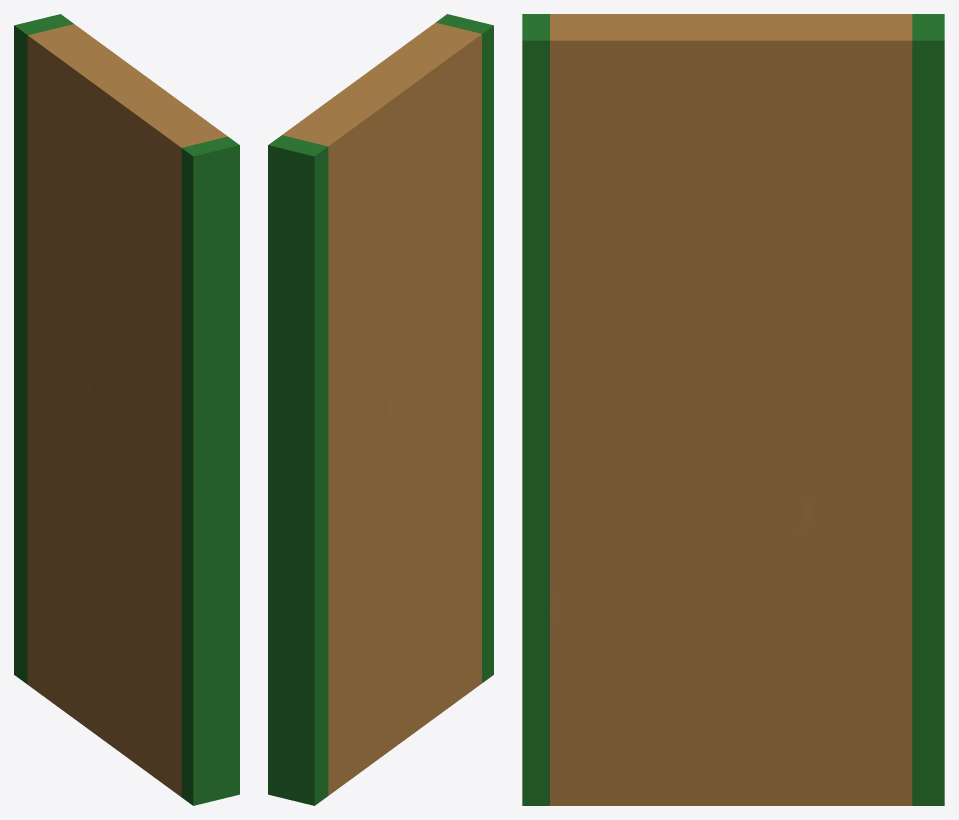
File: tatami1.fbx
The picture shows the model from 3 angles, left to right: view 1: azimuth 30°, elevation 25°; view 2: azimuth 150°, elevation 25°; view 3: azimuth 270°, elevation 25°; orthographic projection. The views are drawn at different scales.
Parts seen in each view (by area): view 1: 立方体; view 2: 立方体; view 3: 立方体.
Part boxes in pixels (bbox=[...]): 立方体: bbox=[14, 14, 239, 805]; 立方体: bbox=[268, 14, 493, 805]; 立方体: bbox=[522, 14, 944, 805].
Bounding box in the file's own units: 60 × 800 × 400.
